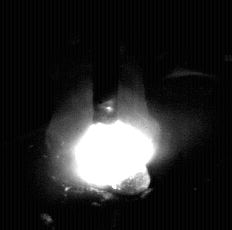arame: (93, 0, 118, 125)
poca: (49, 0, 160, 230)
